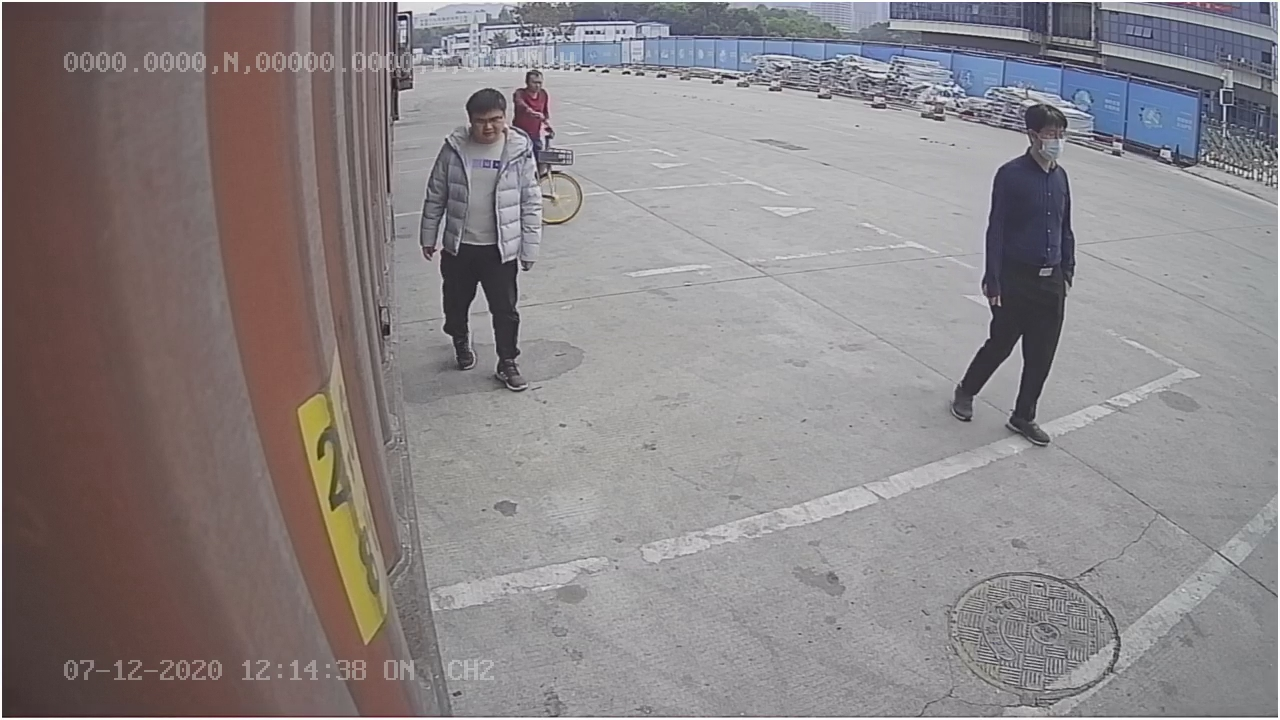person: (952, 96, 1075, 449)
